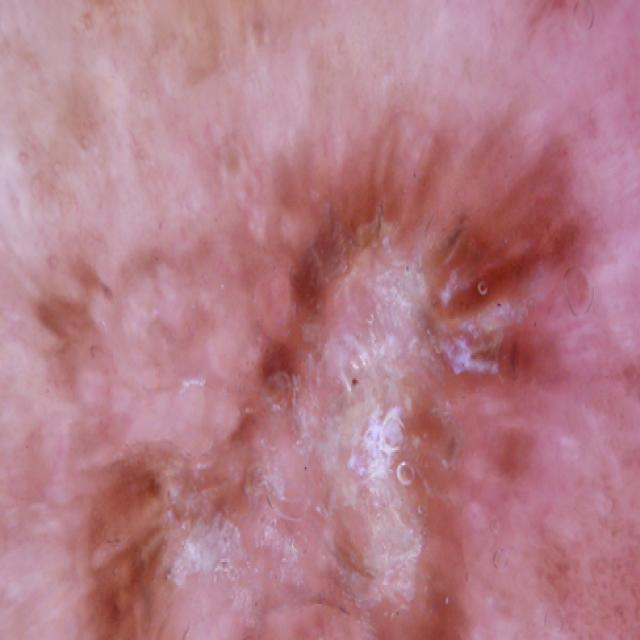Keratosis: (51, 110, 564, 640)
